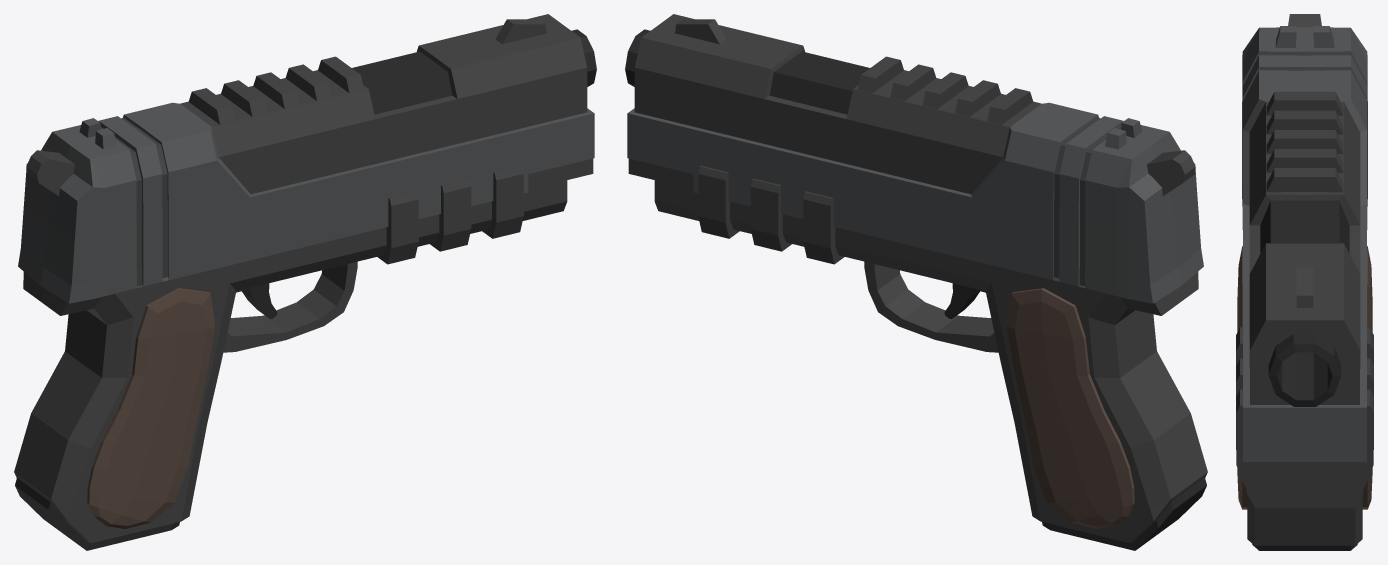
File: pistol_(2).glb
The picture shows the model from 3 angles, left to right: view 1: azimuth 30°, elevation 25°; view 2: azimuth 150°, elevation 25°; view 3: azimuth 270°, elevation 25°; orthographic projection. The views are drawn at different scales.
Parts seen in each view (by area): view 1: Pistol_3_fa6381, Pistol_3_47cff8, Pistol_3_d362a0, Pistol_3_b5a7fd; view 2: Pistol_3_fa6381, Pistol_3_47cff8, Pistol_3_d362a0, Pistol_3_b5a7fd; view 3: Pistol_3_fa6381, Pistol_3_47cff8, Pistol_3_b5a7fd, Pistol_3_d362a0.
Part boxes in pixels (left/top/right/bottom): Pistol_3_fa6381: left=14, top=14, right=593, bottom=543; Pistol_3_47cff8: left=18, top=102, right=594, bottom=303; Pistol_3_d362a0: left=87, top=288, right=215, bottom=528; Pistol_3_b5a7fd: left=15, top=29, right=596, bottom=550; Pistol_3_fa6381: left=628, top=14, right=1207, bottom=543; Pistol_3_47cff8: left=627, top=102, right=1203, bottom=303; Pistol_3_d362a0: left=1006, top=288, right=1134, bottom=528; Pistol_3_b5a7fd: left=625, top=29, right=1206, bottom=550; Pistol_3_fa6381: left=1236, top=14, right=1373, bottom=545; Pistol_3_47cff8: left=1242, top=26, right=1367, bottom=461; Pistol_3_b5a7fd: left=1252, top=200, right=1357, bottom=550; Pistol_3_d362a0: left=1237, top=246, right=1372, bottom=509.
Size of the model in its own units: 0.7134 by 0.5 by 0.1271.
